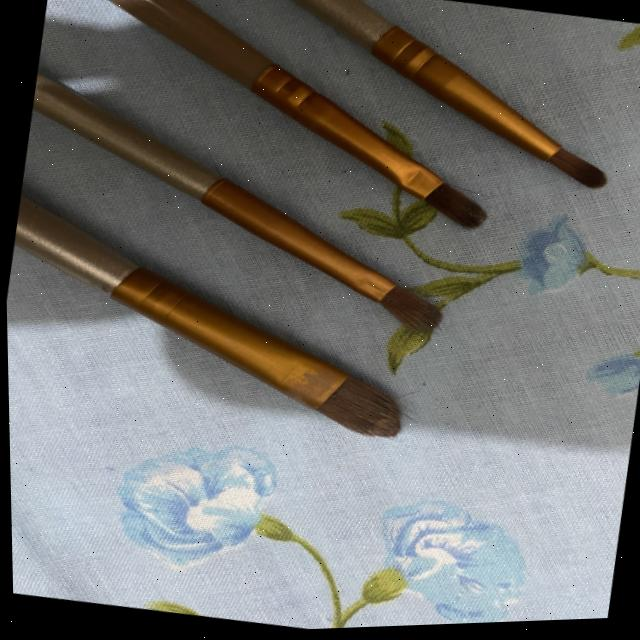brush: (0, 0, 640, 512), (5, 294, 431, 484), (131, 166, 478, 373), (328, 129, 512, 277)
